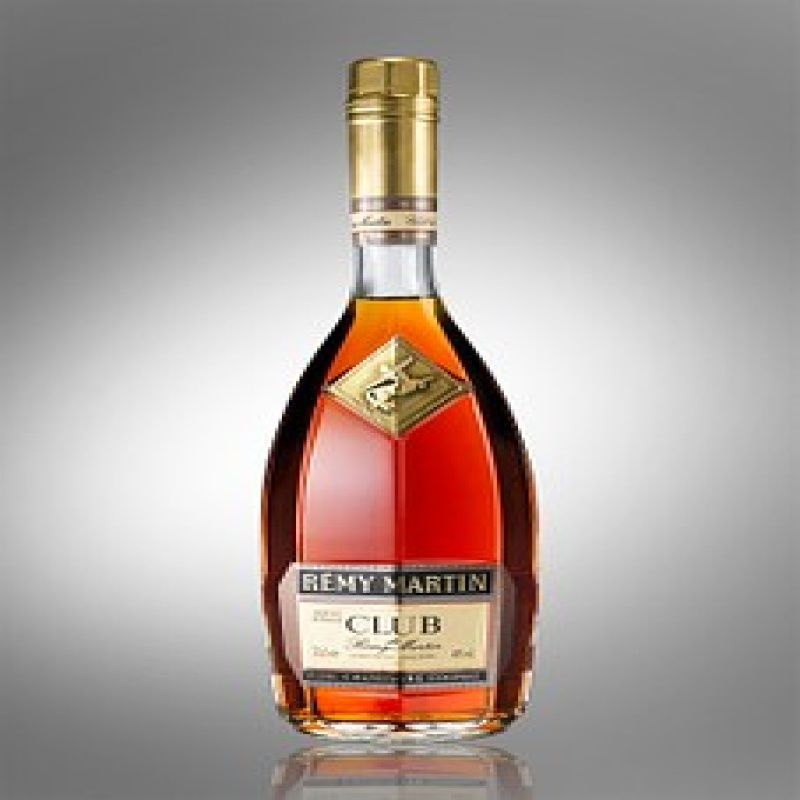wine: (267, 59, 534, 748)
